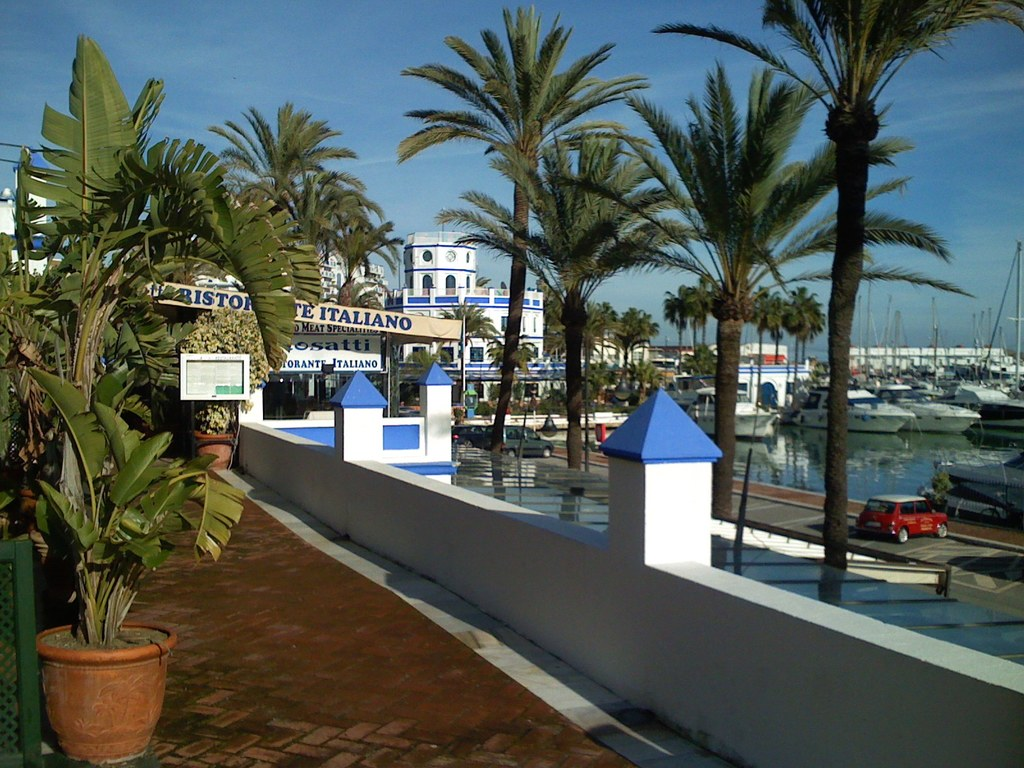Car: (861, 496, 955, 541)
